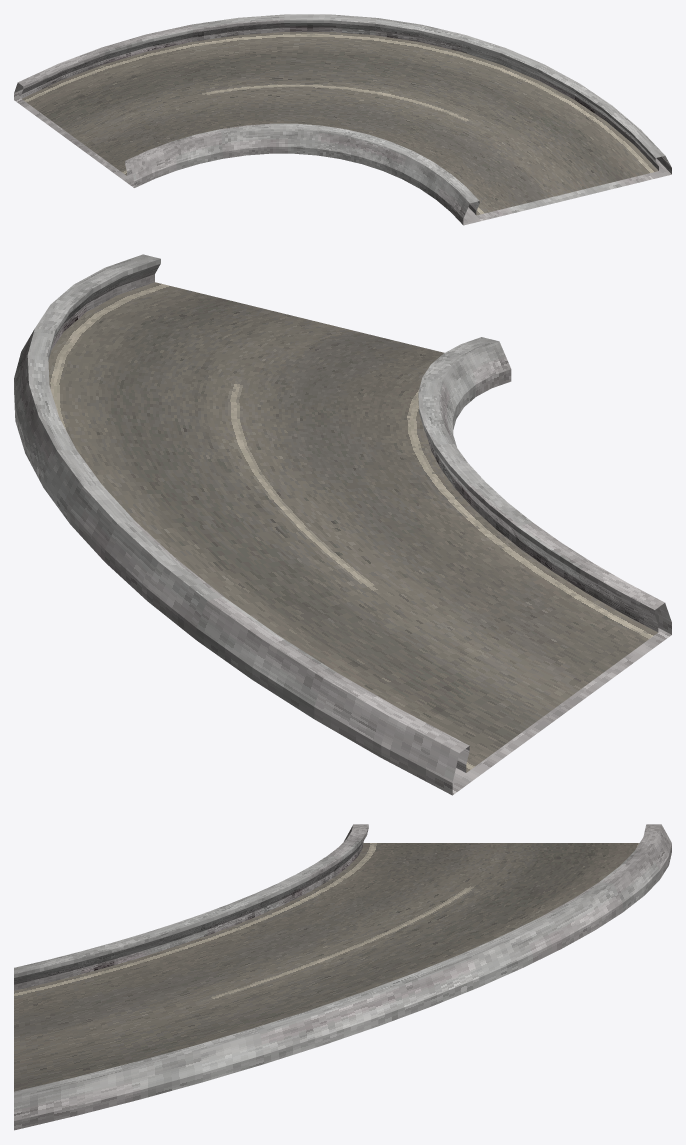
Rendered from road-Turn-BiSlopeUp-BiSlopeDown-Even-Left-Size2.glb.
The picture shows the model from 3 angles, top to bottom: view 1: azimuth 30°, elevation 25°; view 2: azimuth 150°, elevation 25°; view 3: azimuth 270°, elevation 25°; orthographic projection. The views are drawn at different scales.
Visible parts, largest first — view 1: road-Turn-BiSlopeUp-BiSlopeDown-Even-Left-Size2; view 2: road-Turn-BiSlopeUp-BiSlopeDown-Even-Left-Size2; view 3: road-Turn-BiSlopeUp-BiSlopeDown-Even-Left-Size2.
Boxes of the visible parts, left/top/right/bottom form: road-Turn-BiSlopeUp-BiSlopeDown-Even-Left-Size2: left=14, top=14, right=671, bottom=225; road-Turn-BiSlopeUp-BiSlopeDown-Even-Left-Size2: left=14, top=254, right=671, bottom=795; road-Turn-BiSlopeUp-BiSlopeDown-Even-Left-Size2: left=14, top=824, right=671, bottom=1130.
Bounding box in the file's own units: 2 × 0.2976 × 2.
Materials: 2 (2 with a texture image).
